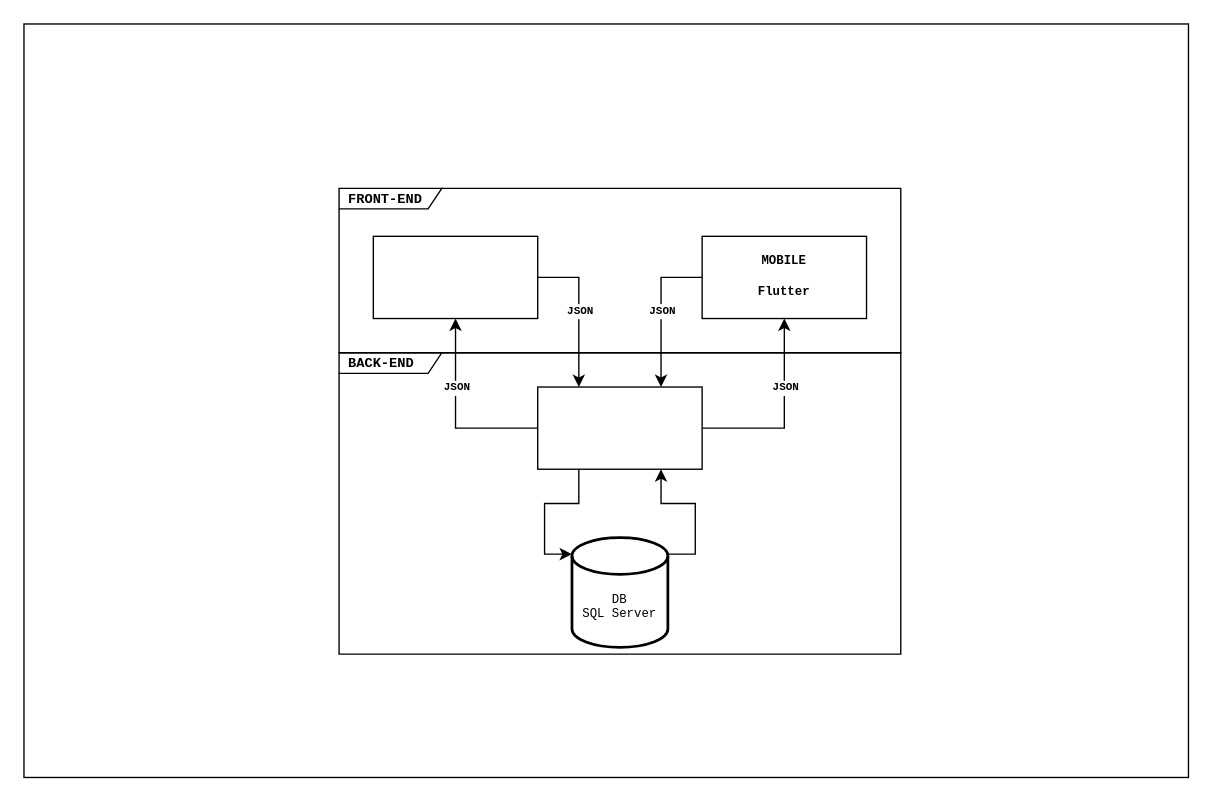
This 1212x801 diagram has some shape labels left out. Here are the shapes that lost their labels. From the top down, the centre of each, then its label:
pixel 455 277: SPA ReactJS
pixel 619 427: API ASP.NET API
